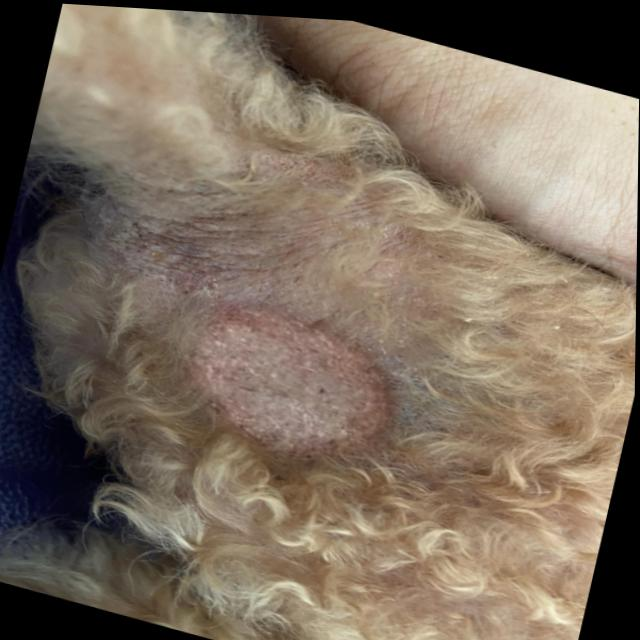ringworm: (171, 275, 416, 475)
